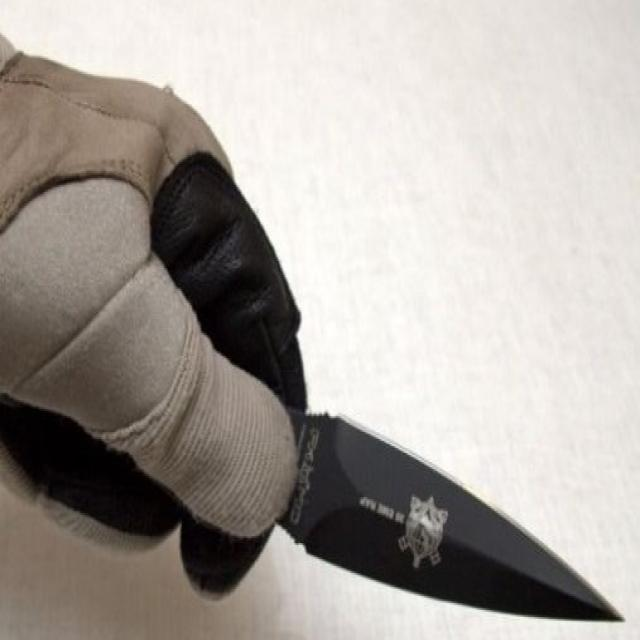knife: (285, 397, 630, 633)
